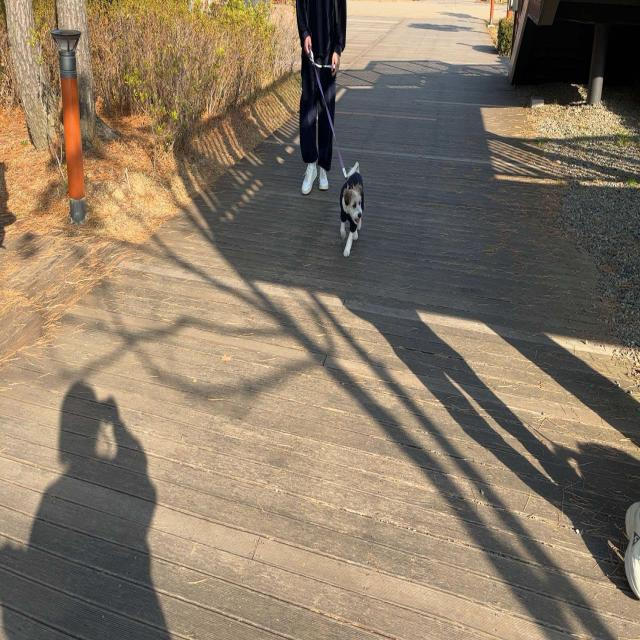Leashed_Dog: (323, 40, 364, 257)
